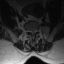CCS_normal: (32, 28, 33, 36)
LFS_normal: (35, 28, 37, 34)
LLS_normal: (33, 28, 35, 35)
RFS_normal: (28, 28, 30, 33)
RLS_normal: (30, 28, 32, 35)
